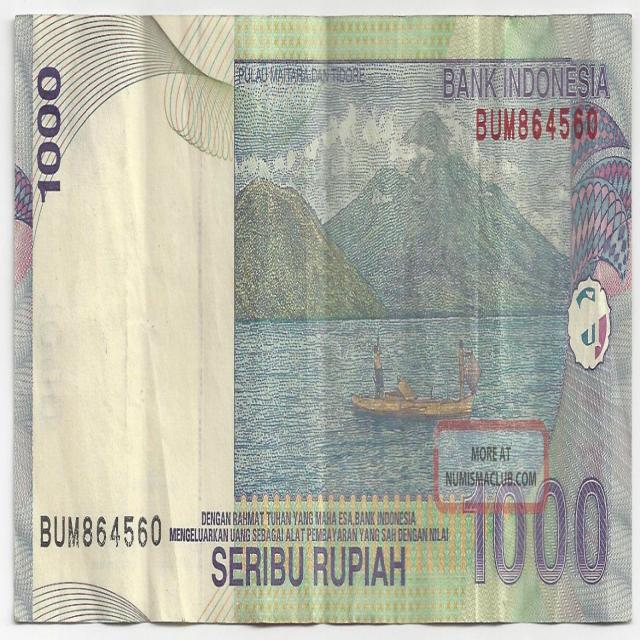seribu rupiah: (12, 10, 633, 625)
